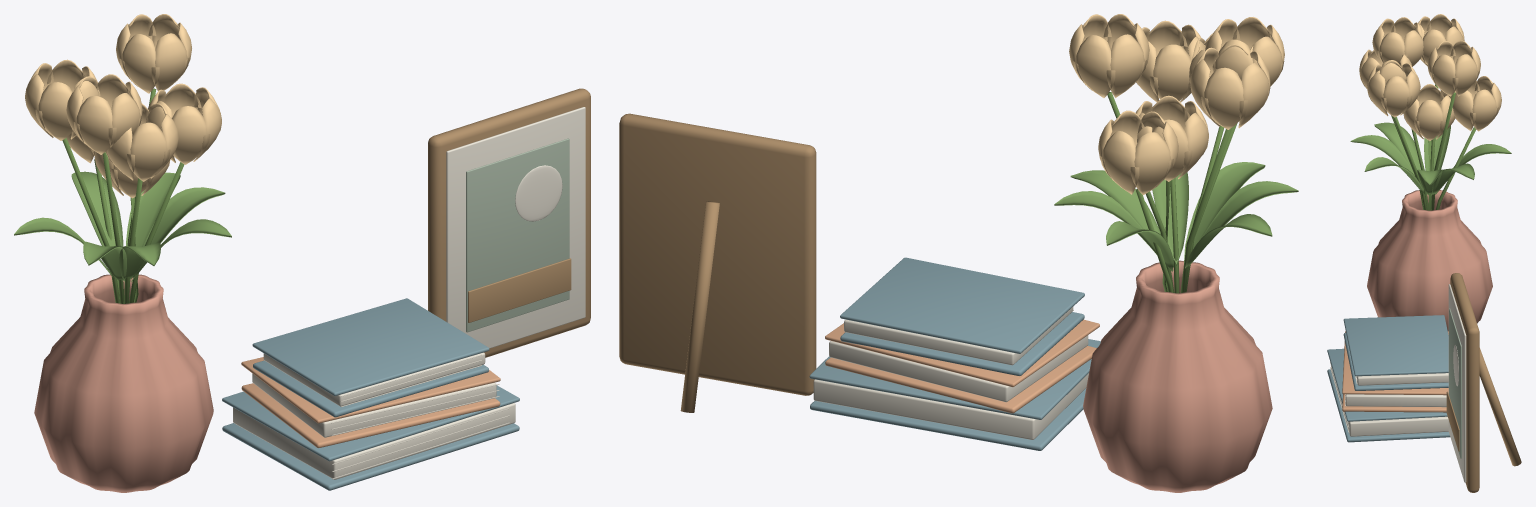
The model's file is arr_sideboard.glb.
The picture shows the model from 3 angles, left to right: view 1: azimuth 30°, elevation 25°; view 2: azimuth 150°, elevation 25°; view 3: azimuth 270°, elevation 25°; orthographic projection. The views are drawn at different scales.
Visible parts, largest first — view 1: arr_sideboard__tulip_vase_body, arr_sideboard__book_stack_body, arr_sideboard__tulip_vase_flowers, arr_sideboard__picture_frame_mat, arr_sideboard__picture_frame_body, arr_sideboard__picture_frame_accent, arr_sideboard__book_stack_paper, arr_sideboard__tulip_vase_leaves, arr_sideboard__book_stack_accent, arr_sideboard__tulip_vase_stems; view 2: arr_sideboard__picture_frame_body, arr_sideboard__tulip_vase_body, arr_sideboard__tulip_vase_flowers, arr_sideboard__book_stack_body, arr_sideboard__book_stack_paper, arr_sideboard__tulip_vase_leaves, arr_sideboard__book_stack_accent, arr_sideboard__tulip_vase_stems; view 3: arr_sideboard__tulip_vase_flowers, arr_sideboard__tulip_vase_body, arr_sideboard__book_stack_body, arr_sideboard__picture_frame_body, arr_sideboard__book_stack_paper, arr_sideboard__tulip_vase_leaves, arr_sideboard__tulip_vase_stems, arr_sideboard__picture_frame_mat, arr_sideboard__book_stack_accent, arr_sideboard__picture_frame_accent.
Part boxes in pixels (bbox=[...]): arr_sideboard__tulip_vase_body: bbox=[34, 274, 213, 492]; arr_sideboard__book_stack_body: bbox=[222, 298, 519, 490]; arr_sideboard__tulip_vase_flowers: bbox=[25, 14, 221, 198]; arr_sideboard__picture_frame_mat: bbox=[446, 107, 585, 348]; arr_sideboard__picture_frame_body: bbox=[428, 88, 590, 357]; arr_sideboard__picture_frame_accent: bbox=[466, 138, 569, 332]; arr_sideboard__book_stack_paper: bbox=[233, 352, 515, 479]; arr_sideboard__tulip_vase_leaves: bbox=[14, 171, 231, 282]; arr_sideboard__book_stack_accent: bbox=[241, 357, 500, 447]; arr_sideboard__tulip_vase_stems: bbox=[62, 88, 184, 303]; arr_sideboard__picture_frame_body: bbox=[619, 113, 816, 412]; arr_sideboard__tulip_vase_body: bbox=[1083, 260, 1272, 492]; arr_sideboard__tulip_vase_flowers: bbox=[1069, 14, 1284, 195]; arr_sideboard__book_stack_body: bbox=[809, 257, 1100, 450]; arr_sideboard__book_stack_paper: bbox=[813, 307, 1088, 439]; arr_sideboard__tulip_vase_leaves: bbox=[1054, 162, 1298, 271]; arr_sideboard__book_stack_accent: bbox=[825, 319, 1099, 413]; arr_sideboard__tulip_vase_stems: bbox=[1107, 92, 1237, 293]; arr_sideboard__tulip_vase_flowers: bbox=[1359, 14, 1501, 140]; arr_sideboard__tulip_vase_body: bbox=[1367, 190, 1492, 331]; arr_sideboard__book_stack_body: bbox=[1327, 315, 1450, 442]; arr_sideboard__picture_frame_body: bbox=[1446, 273, 1521, 492]; arr_sideboard__book_stack_paper: bbox=[1330, 362, 1448, 436]; arr_sideboard__tulip_vase_leaves: bbox=[1350, 122, 1511, 195]; arr_sideboard__tulip_vase_stems: bbox=[1391, 84, 1476, 210]; arr_sideboard__picture_frame_mat: bbox=[1448, 284, 1466, 482]; arr_sideboard__book_stack_accent: bbox=[1342, 331, 1448, 412]; arr_sideboard__picture_frame_accent: bbox=[1449, 308, 1461, 458].
Bounding box in the file's own units: 0.6899 × 0.4669 × 0.2779.
